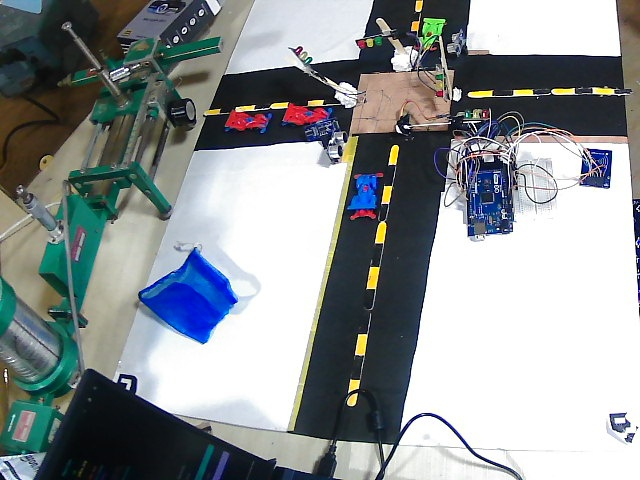aruco_marker: (602, 402, 636, 438), (108, 372, 143, 396)
black_strip: (355, 288, 378, 333), (256, 96, 286, 108), (611, 84, 637, 96), (368, 245, 384, 261), (352, 357, 364, 377), (374, 201, 387, 219), (382, 164, 395, 182), (490, 86, 510, 96), (575, 83, 595, 93), (536, 83, 555, 93), (222, 99, 235, 113), (408, 12, 421, 23), (408, 29, 418, 42)
car: (228, 107, 260, 131), (355, 171, 373, 213), (423, 12, 441, 45), (285, 107, 323, 119)
mixed_lane: (348, 136, 405, 402), (206, 93, 334, 115), (464, 86, 638, 98), (408, 0, 419, 42)
traffic_light: (428, 71, 444, 98), (356, 35, 386, 48), (292, 44, 310, 62), (458, 105, 486, 116)
uno_breadboard: (460, 153, 517, 235), (516, 154, 557, 212), (577, 142, 614, 191), (301, 110, 340, 142), (324, 128, 348, 164), (461, 134, 497, 155), (446, 32, 468, 56)
yellow_strip: (367, 261, 380, 291), (388, 138, 402, 165), (350, 377, 361, 405), (514, 86, 534, 99), (381, 183, 394, 203), (357, 330, 367, 356), (466, 87, 491, 96), (594, 84, 612, 96), (375, 219, 384, 240), (236, 99, 253, 110), (552, 87, 574, 95), (204, 104, 221, 114), (406, 20, 418, 29), (412, 0, 420, 9)
